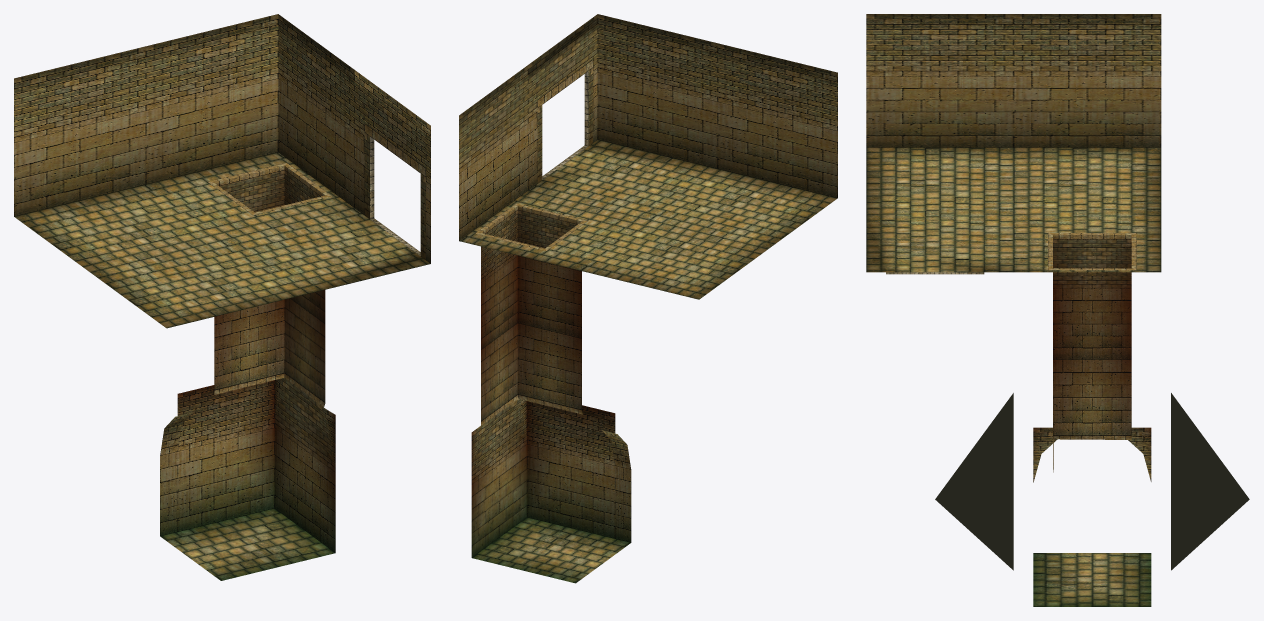
The model's file is MISSION12_INTERIORROOMS03.glb.
3 renders of one model, left to right at view 1: azimuth 30°, elevation 25°; view 2: azimuth 150°, elevation 25°; view 3: azimuth 270°, elevation 25°, orthographic. The views are drawn at different scales.
Parts seen in each view (by area): view 1: MISSION12_INTERIORROOMS03; view 2: MISSION12_INTERIORROOMS03; view 3: MISSION12_INTERIORROOMS03.
Part boxes in pixels (x1,y1,x2,y2): MISSION12_INTERIORROOMS03: (14,14,430,580); MISSION12_INTERIORROOMS03: (459,14,837,583); MISSION12_INTERIORROOMS03: (866,14,1249,606).
Bounding box in the file's own units: 7.62 × 13.75 × 9.75.
Materials: 6 (6 with a texture image).
